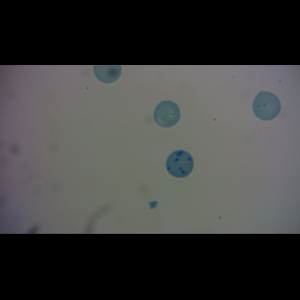aggregate reticulocyte: (165, 149, 195, 179)
erythrocyte: (153, 100, 182, 129)
punctate reticulocyte: (252, 90, 281, 121)
